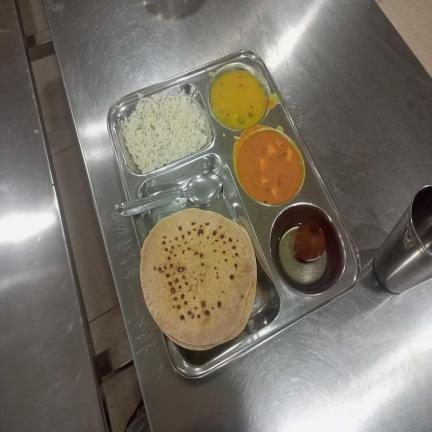Chana Dal: (210, 70, 266, 128)
Gulab Jamun: (295, 218, 326, 262)
Paneer: (237, 130, 303, 205)
Plate: (106, 49, 361, 378)
Rice: (122, 91, 208, 174)
Roti: (140, 208, 256, 353)
